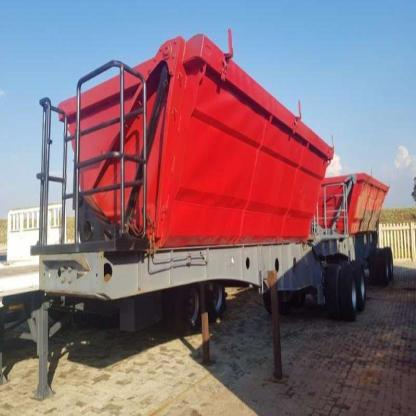dump_truck: (41, 26, 405, 361)
